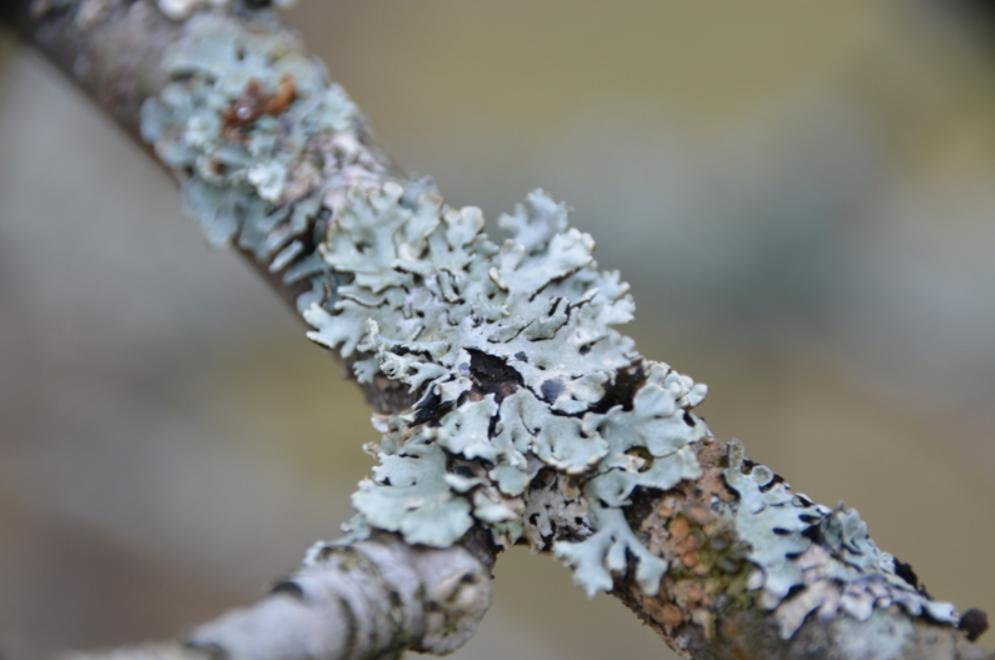lichen: (288, 166, 710, 598), (723, 441, 833, 608), (827, 515, 956, 622)
